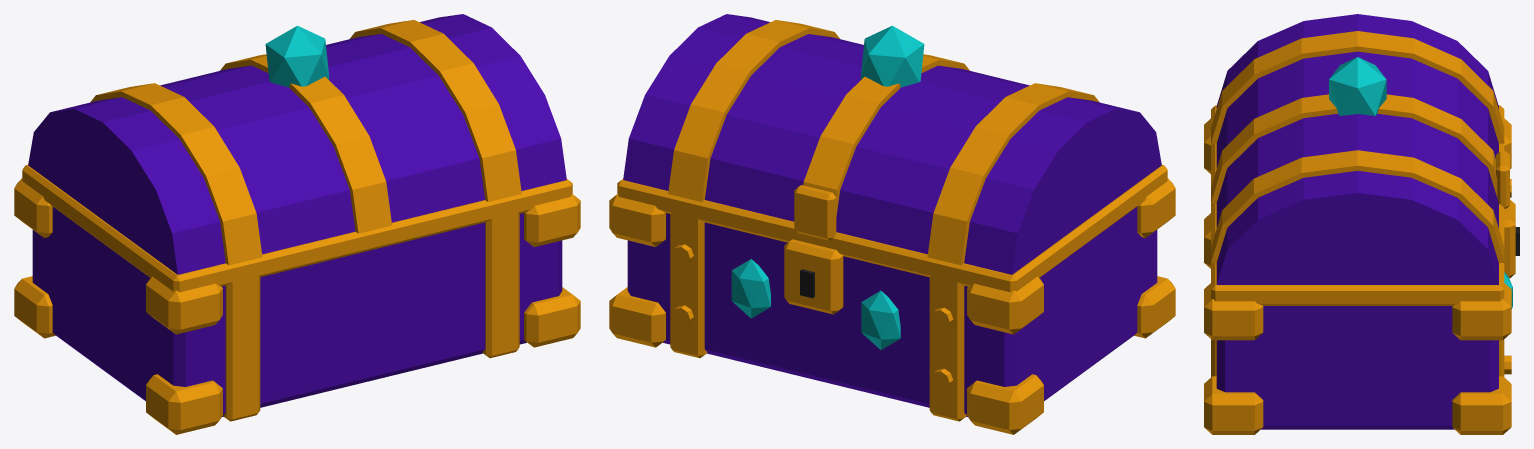
The model's file is chest_epic.fbx.
The picture shows the model from 3 angles, left to right: view 1: azimuth 30°, elevation 25°; view 2: azimuth 150°, elevation 25°; view 3: azimuth 270°, elevation 25°; orthographic projection. The views are drawn at different scales.
Visible parts, largest first — view 1: Lid, Base; view 2: Lid, Base; view 3: Lid, Base.
Boxes of the visible parts, left/top/right/bottom form: Lid: left=28, top=14, right=566, bottom=274; Base: left=14, top=164, right=580, bottom=434; Lid: left=623, top=14, right=1161, bottom=274; Base: left=609, top=164, right=1175, bottom=434; Lid: left=1211, top=14, right=1509, bottom=284; Base: left=1204, top=105, right=1519, bottom=434.
Size of the model in its own units: 3.5 by 2.48 by 2.46.
